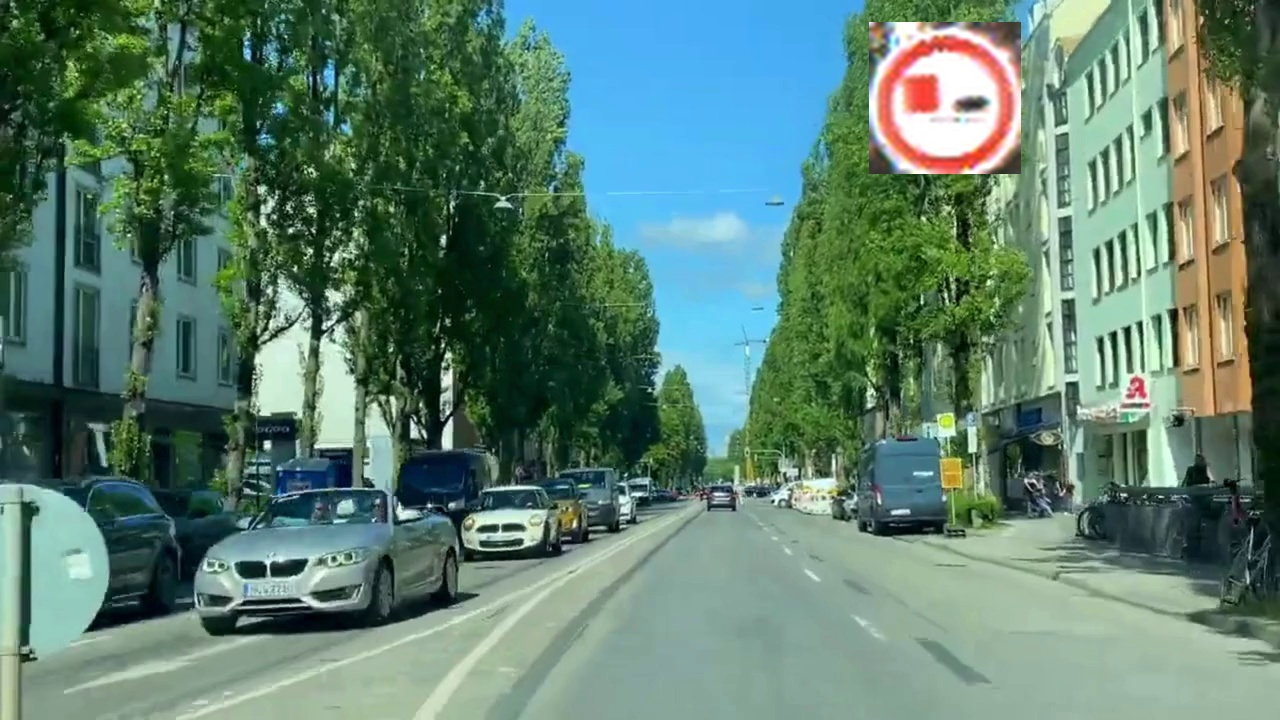No pass >3.5t: (869, 22, 1021, 174)
